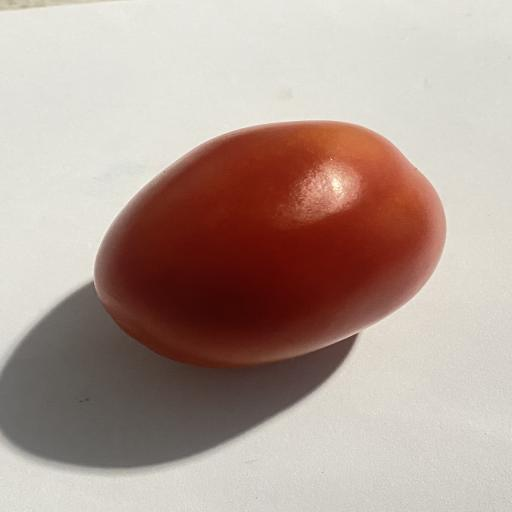ripe: (94, 121, 445, 367)
